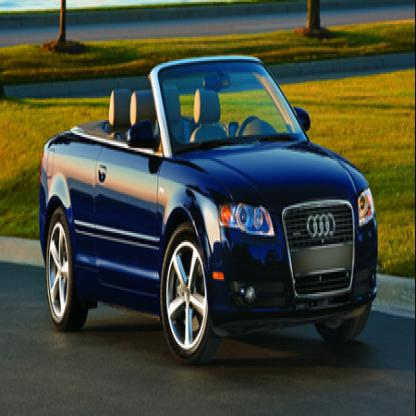Vehicle: (41, 55, 381, 368)
